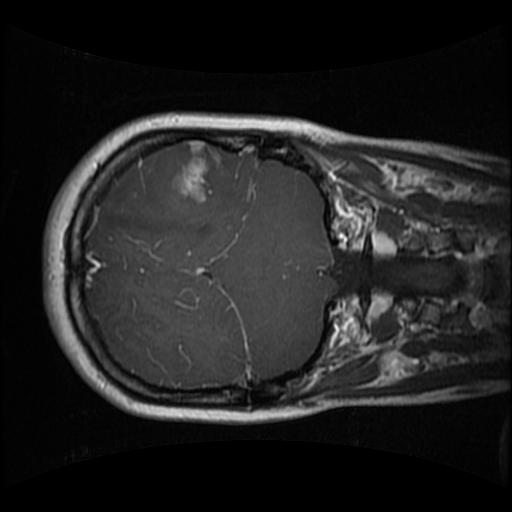glioma: (167, 142, 223, 206)
